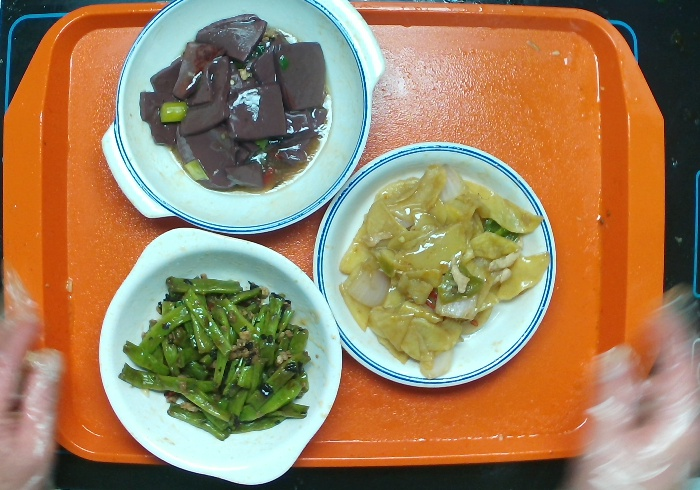HZYJPL-Dai_Er_Bai_Yuan_Wan: (95, 220, 349, 490)
HZYJPL-Lan_Bian_Dai_Er_Wan: (91, 1, 393, 236)
HZYJPL-Lan_Bian_Yuan_Die: (307, 135, 571, 397)
